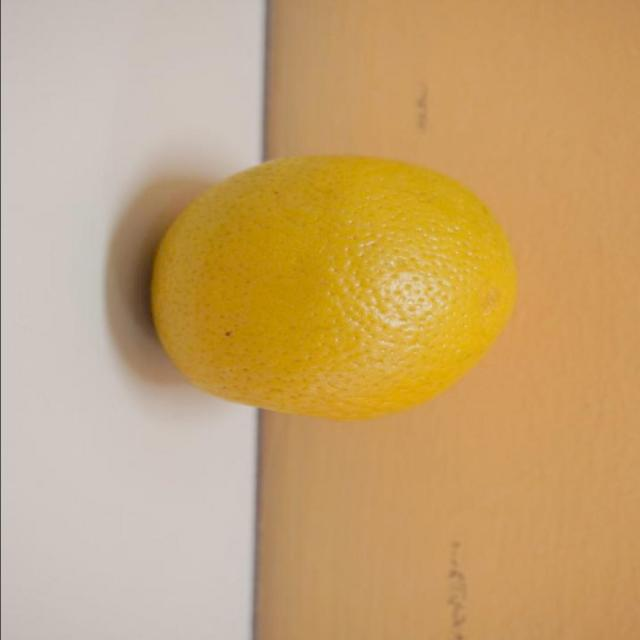Orange: (145, 154, 516, 423)
